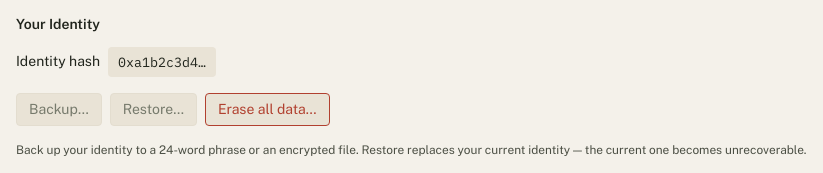
Test case: IdentityPanel — wizard mode toggles › Cancel button in backup type picker returns to idle state
This screenshot has width=823, height=173.
Expected: the button "0xa1b2c3d4…" is shown, [108,47,216,77]
Click the button "Backup…": (59, 109) [16,93,102,126]
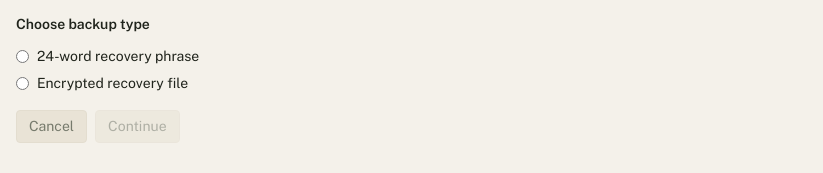
Expected: the heading "Choose backup type" is shown, [16,16,150,32]
Click the button "Cancel": (52, 127) [16,110,87,143]
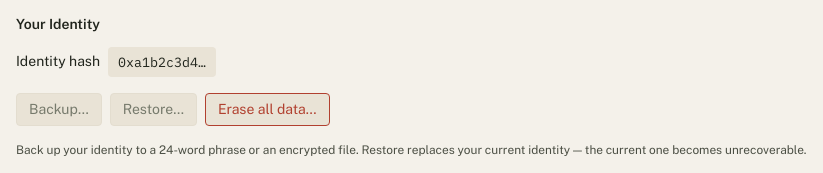
Expected: the button "0xa1b2c3d4…" is shown, [108,47,216,77]
Expected: the button "Backup…" is shown, [16,93,102,126]
Expected: the button "Restore…" is shown, [110,93,197,126]
